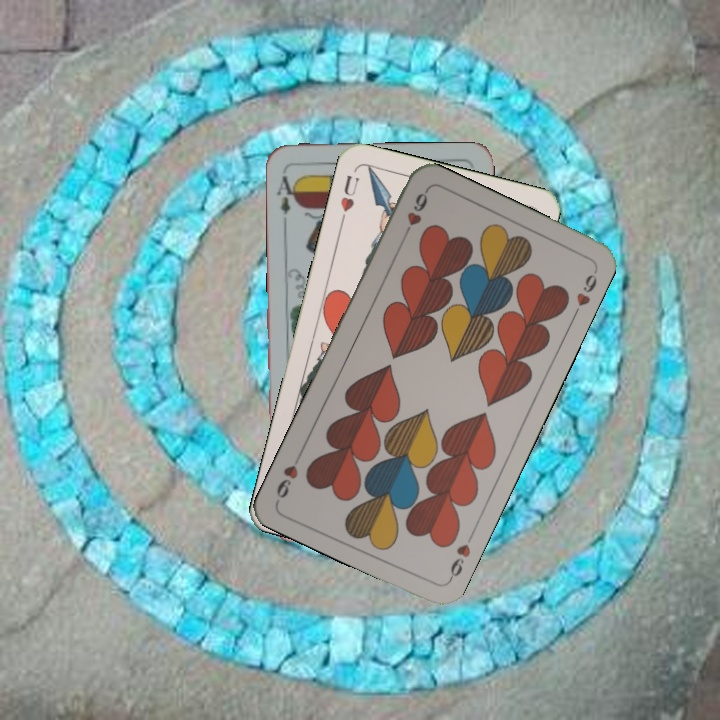EA: (273, 172, 300, 217)
H9: (399, 187, 431, 242), (444, 529, 476, 584)
HU: (336, 171, 362, 225)
